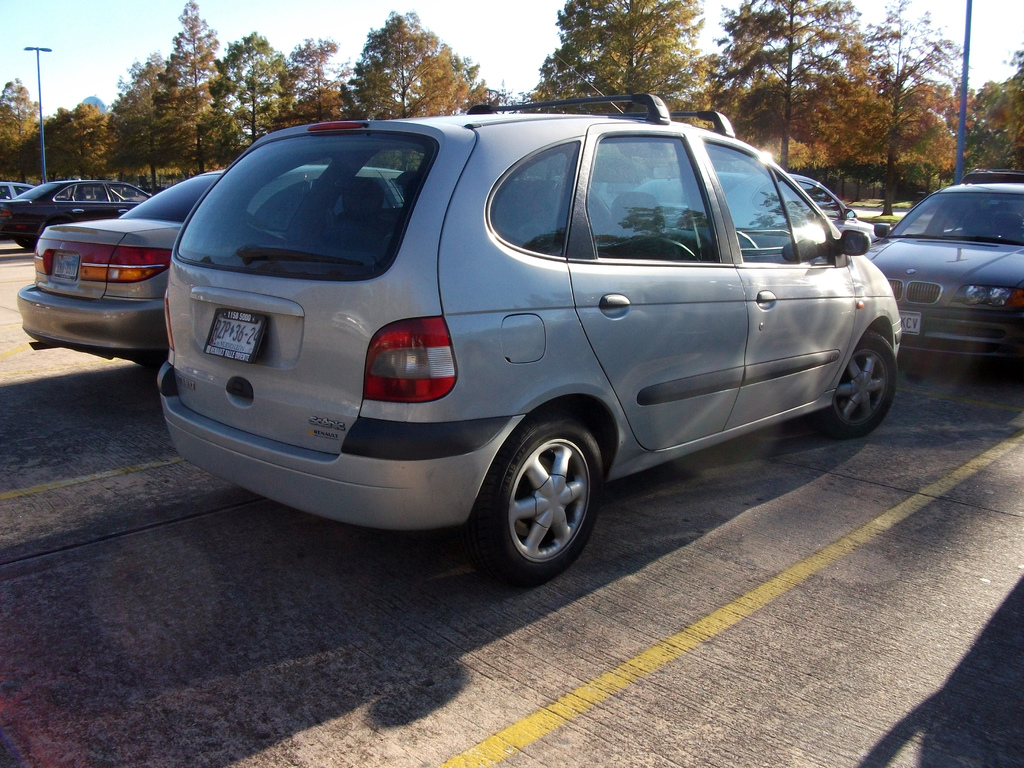Car: (0, 58, 1023, 585)
